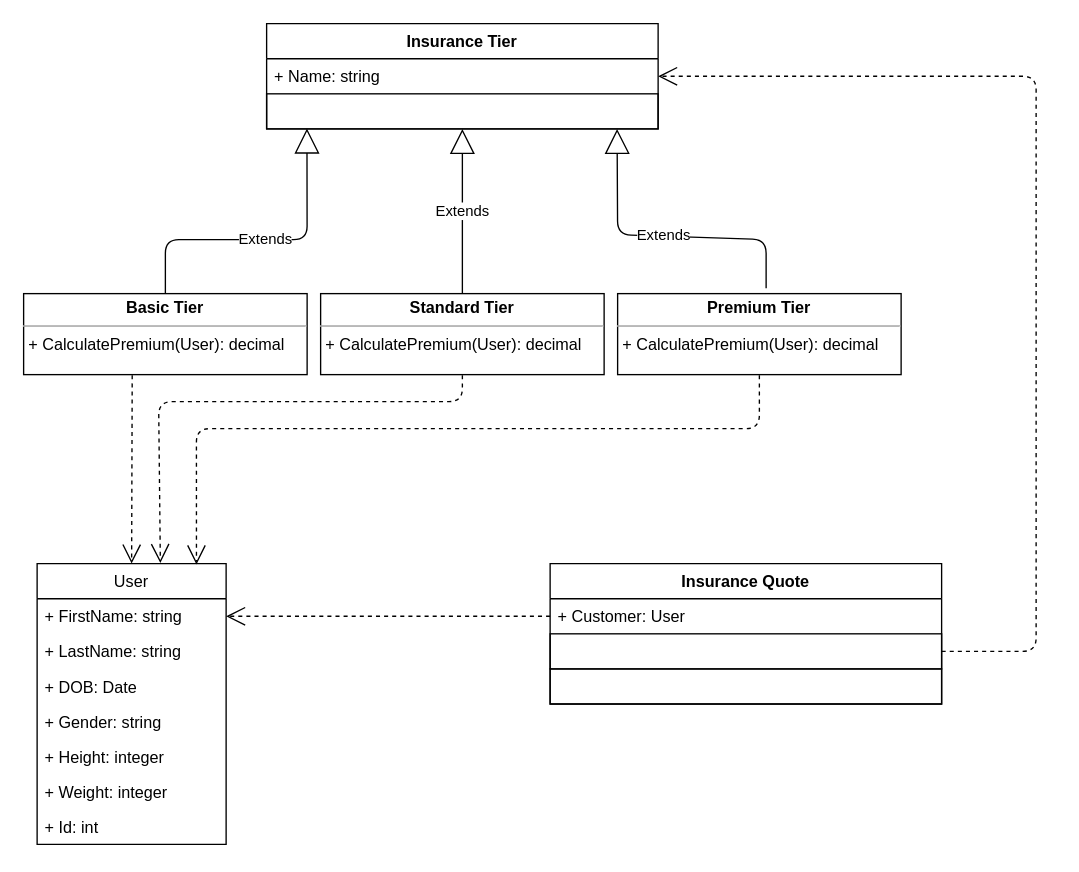
Some shapes in this 1079 by 872 pixel diagram are drawn without their labels. Here are the shapes that lost their labels. From the top down, the centre of each, then its label:
At point (461, 110): "abstract CalculatePremium(User): decimal".
At point (745, 650): "+ SelectedTier: Insurance Tier".
At point (745, 686): "+ Premium: decimal".
